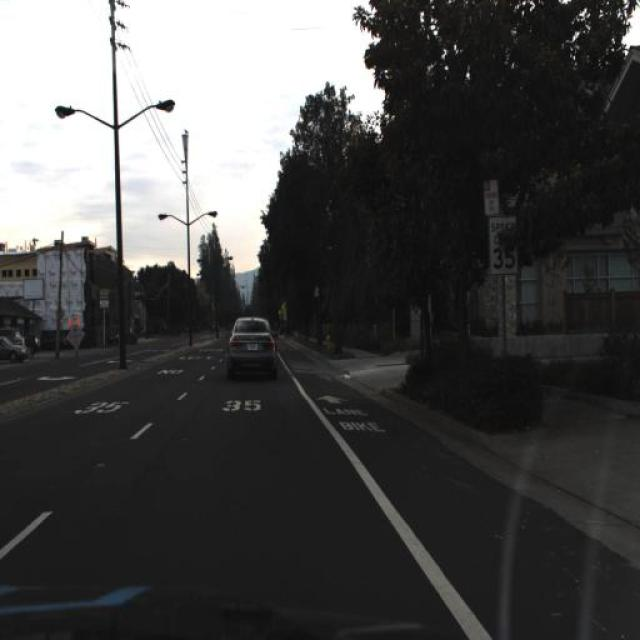car: (222, 312, 279, 382), (2, 319, 30, 370), (0, 331, 32, 363)
